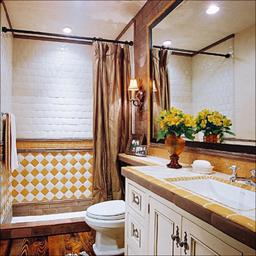Ducha: (4, 26, 128, 231)
Lavamanos: (163, 168, 254, 213)
Sanitario: (84, 198, 126, 255)
